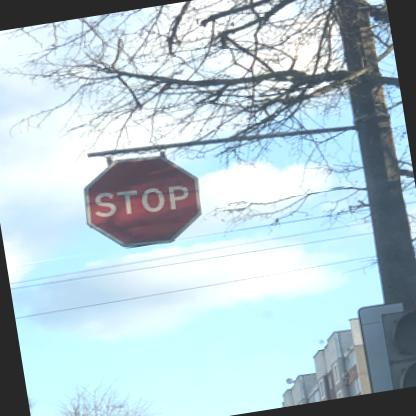stop: (75, 146, 206, 254)
trafficlight: (376, 303, 415, 388)
